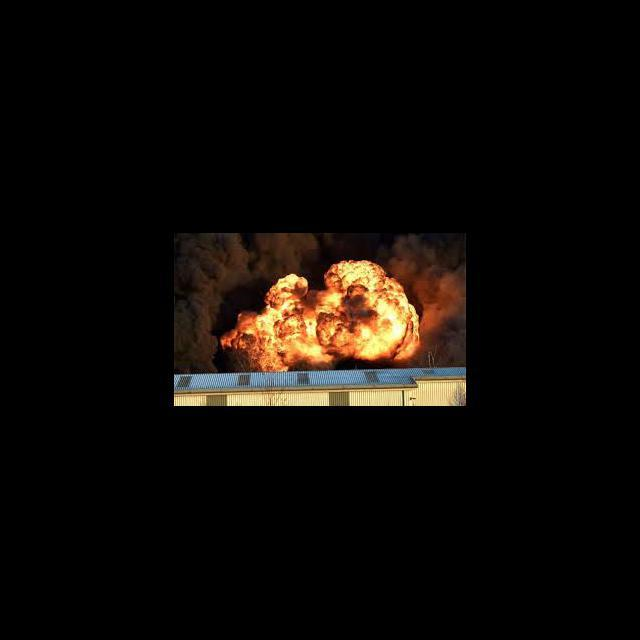Fire: (219, 255, 422, 374)
Smoke: (174, 264, 220, 374), (422, 235, 465, 343), (175, 236, 332, 265), (378, 236, 422, 254)
